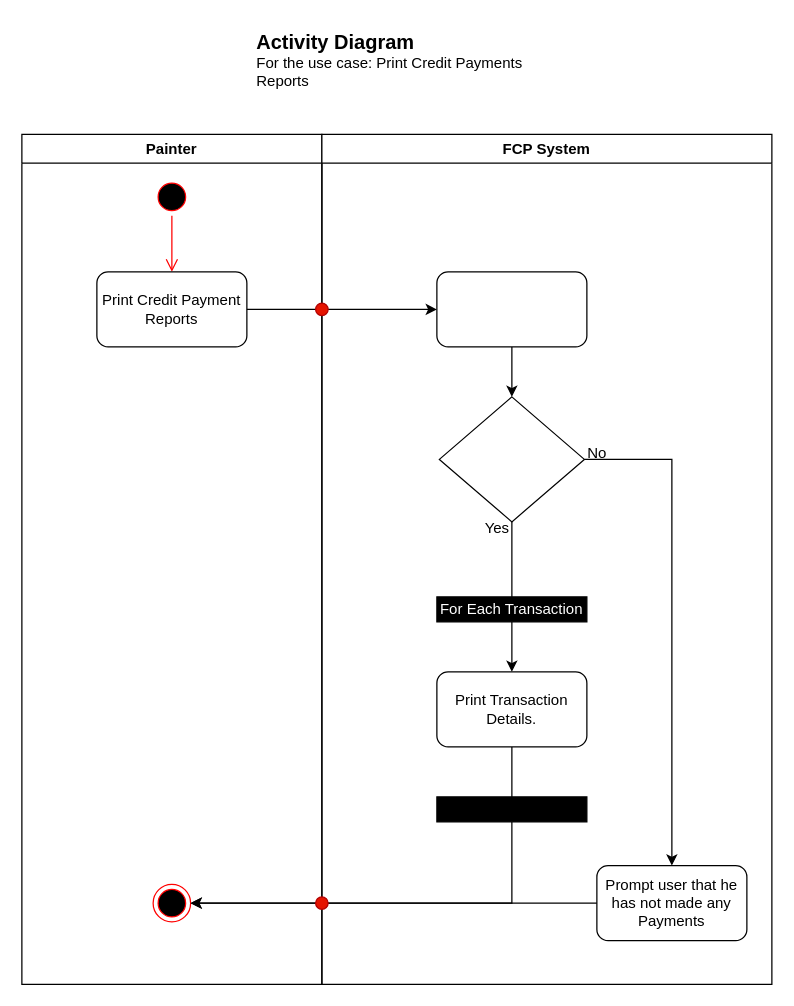
The diagram is 794 pixels wide and 1006 high, and some of its shapes have lost their labels. The shapes that lost their labels are listed below. From the top down, each one's centre as x and y in pixels, then its label:
At pixel 511 309: "Check if user have made any transaction before".
At pixel 511 459: "If user has made a transaction before".
At pixel 511 809: "End For".
